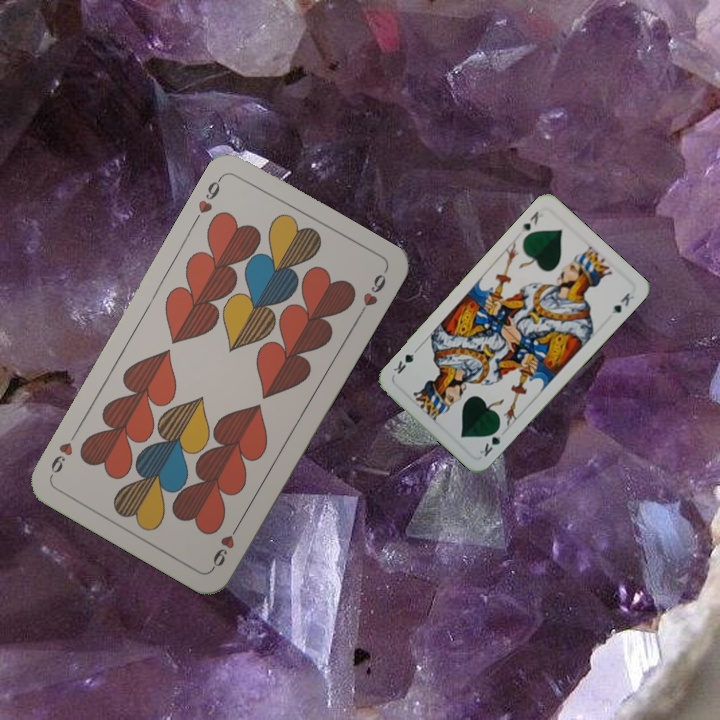GK: (475, 423, 504, 459), (517, 207, 541, 235)
H9: (207, 518, 243, 572), (194, 172, 225, 216)
